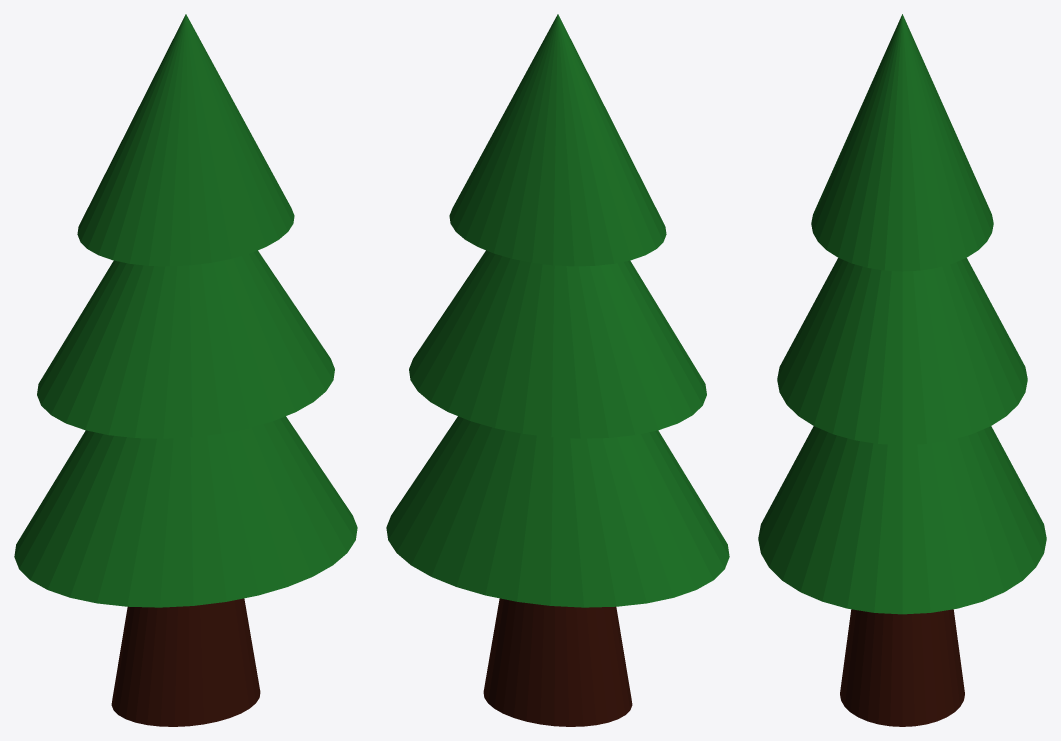
File: TreeB.fbx
The picture shows the model from 3 angles, left to right: view 1: azimuth 30°, elevation 25°; view 2: azimuth 150°, elevation 25°; view 3: azimuth 270°, elevation 25°; orthographic projection.
Parts seen in each view (by area): view 1: TreeB; view 2: TreeB; view 3: TreeB.
Boxes of the visible parts, x1,y1,x2,y2 form: TreeB: (14,14,357,726); TreeB: (386,14,729,726); TreeB: (758,14,1046,726).
Size of the model in its own units: 387 by 813 by 313.
